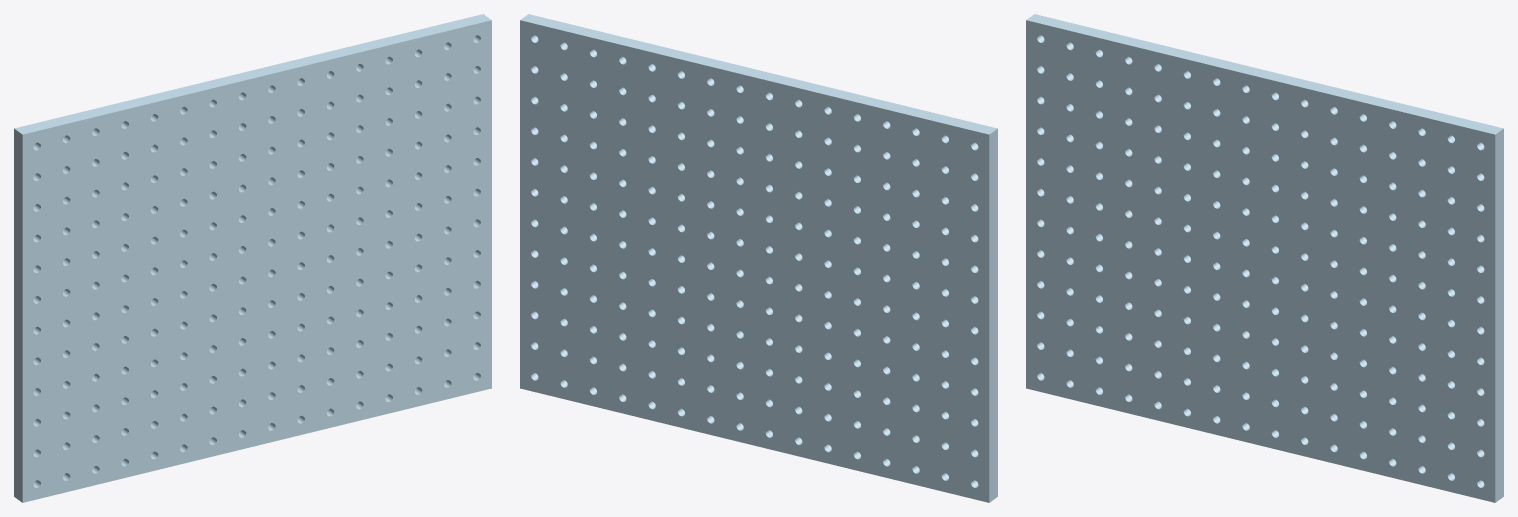
File: Pegboard.gltf
3 renders of one model, left to right at view 1: azimuth 30°, elevation 25°; view 2: azimuth 150°, elevation 25°; view 3: azimuth 330°, elevation 25°, orthographic.
Visible parts, largest first — view 1: Part 1; view 2: Part 1; view 3: Part 1.
Part boxes in pixels (left/top/right/bottom): Part 1: left=14, top=14, right=491, bottom=502; Part 1: left=520, top=14, right=997, bottom=502; Part 1: left=1026, top=14, right=1503, bottom=502.
Size of the model in its own units: 0.4064 by 0.3048 by 0.0127.
